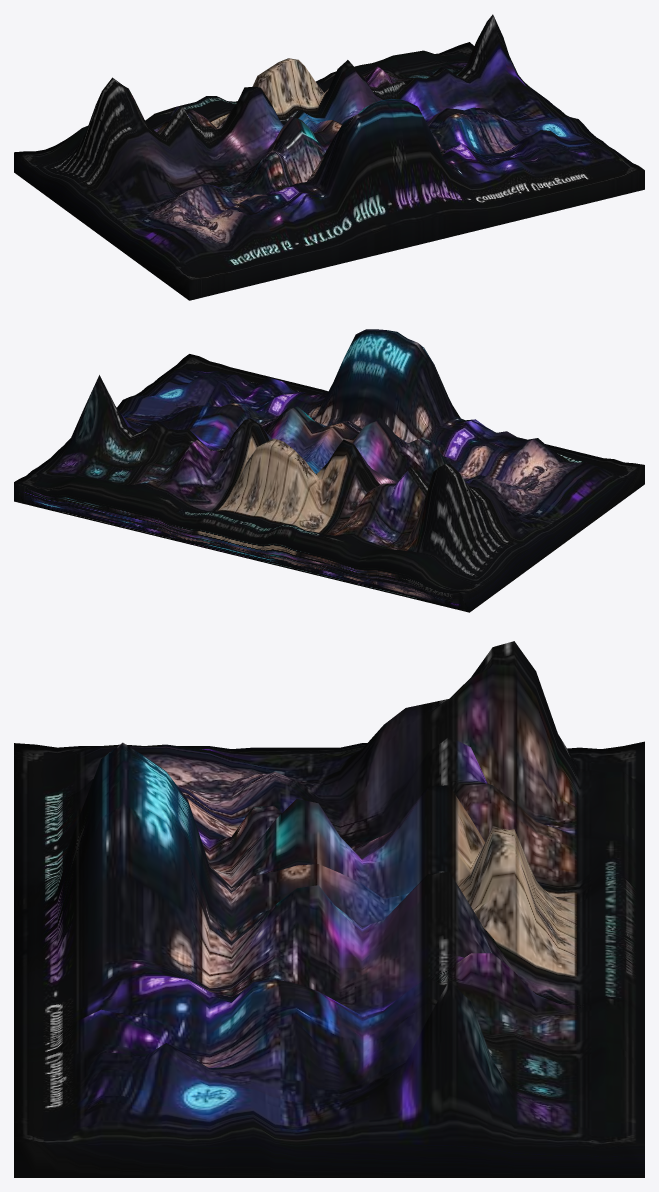
File: BUSINESS_15_Tattoo_Shop.glb
3 views of the same model, one above another, from view 1: azimuth 30°, elevation 25°; view 2: azimuth 150°, elevation 25°; view 3: azimuth 270°, elevation 25° (orthographic). The views are drawn at different scales.
Parts seen in each view (by area): view 1: BUSINESS_15_Tattoo_Shop; view 2: BUSINESS_15_Tattoo_Shop; view 3: BUSINESS_15_Tattoo_Shop.
Part boxes in pixels (left/top/right/bottom): BUSINESS_15_Tattoo_Shop: left=14, top=14, right=644, bottom=300; BUSINESS_15_Tattoo_Shop: left=14, top=329, right=644, bottom=612; BUSINESS_15_Tattoo_Shop: left=14, top=641, right=644, bottom=1177.
Bounding box in the file's own units: 2 × 0.51 × 1.33.
1 material, 1 textured.
